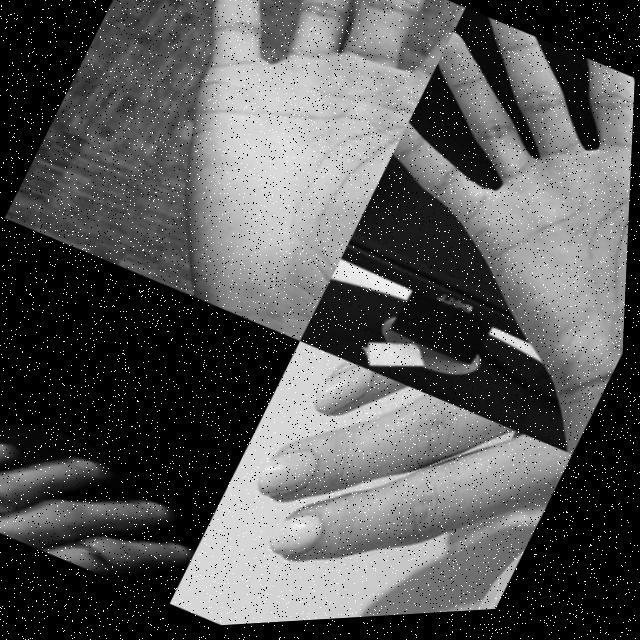no-gloves: (77, 0, 467, 356), (328, 5, 639, 415), (196, 342, 581, 630), (0, 372, 226, 615)
